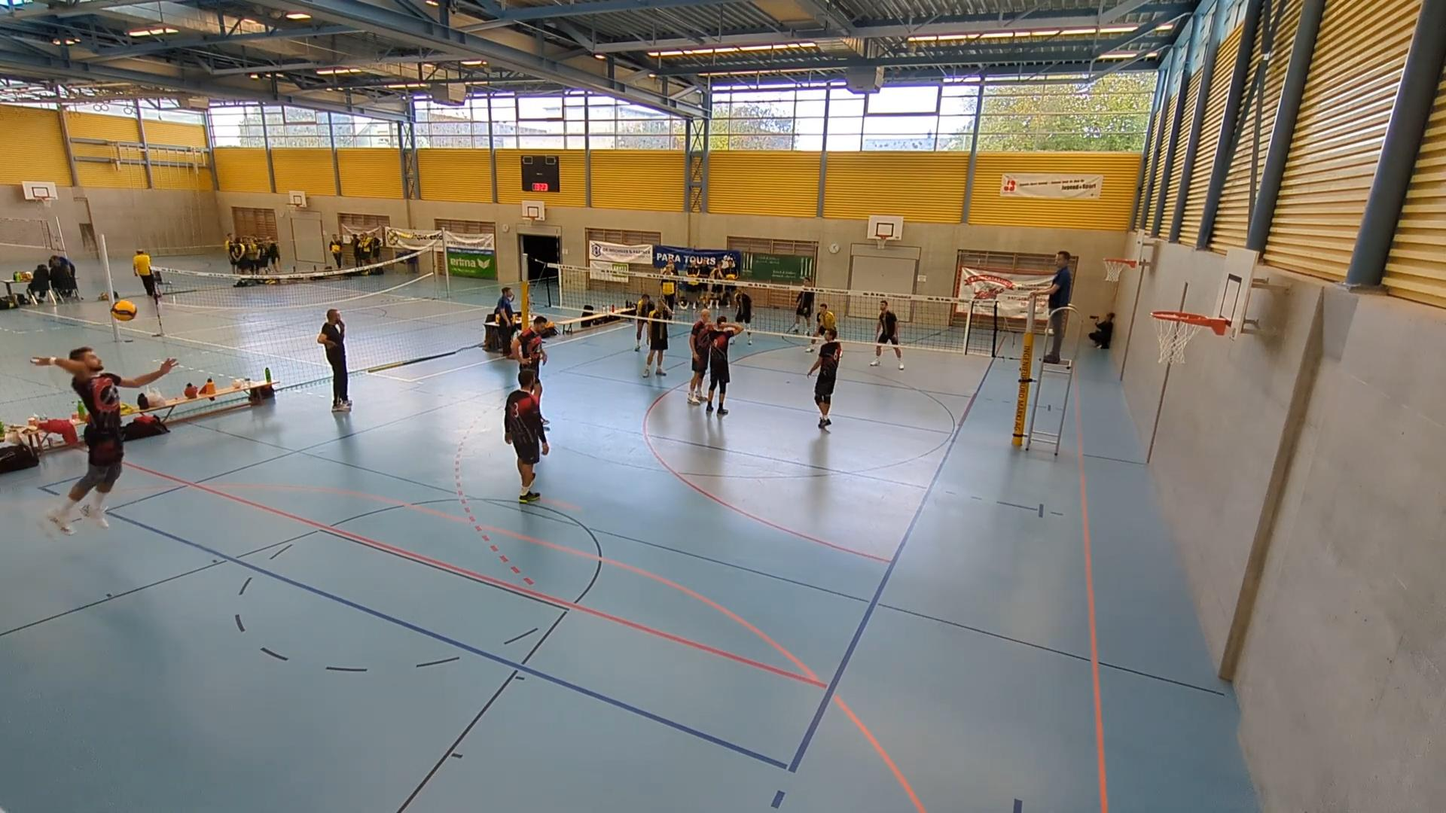battuta: (21, 336, 179, 537)
